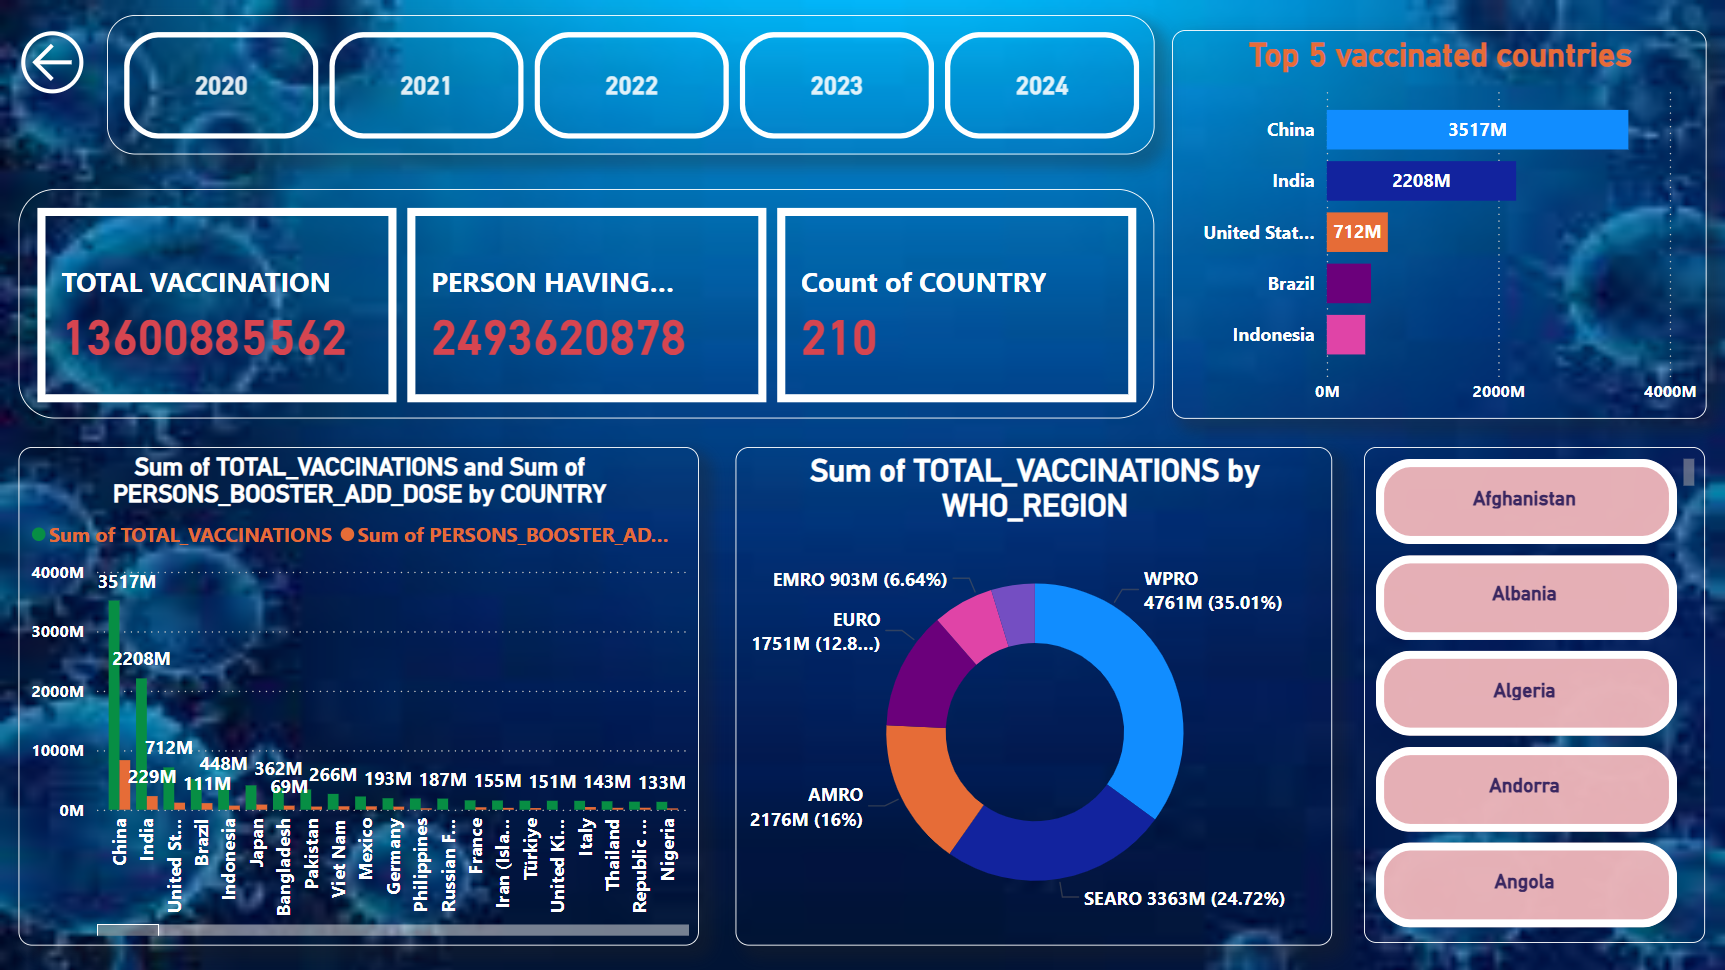

The dashboard page shown, as its layout file describes it:
{"tool":"powerbi","page":{"name":"Page 3","canvas":[1280,720],"ordinal":2},"visuals":[{"type":"clusteredColumnChart","fields":{"Category":["vaccination-data (1).COUNTRY"],"Y":["Sum(vaccination-data (1).TOTAL_VACCINATIONS)","Sum(vaccination-data (1).PERSONS_BOOSTER_ADD_DOSE)"]},"box":[14.3,330.8,504.2,369],"z":0},{"type":"donutChart","fields":{"Category":["vaccination-data (1).WHO_REGION"],"Y":["Sum(vaccination-data (1).TOTAL_VACCINATIONS)"]},"box":[545.6,330.8,442.2,369],"z":1000},{"type":"cardVisual","fields":{"Data":["Sum(vaccination-data (1).TOTAL_VACCINATIONS)","Sum(vaccination-data (1).PERSONS_BOOSTER_ADD_DOSE)","CountNonNull(vaccination-data (1).COUNTRY)"]},"box":[14.3,140,841.4,170.2],"z":2000},{"type":"advancedSlicerVisual","fields":{"Values":["WHO-COVID-19-global-data (3).Date_reported.Variation.Date Hierarchy.Year"]},"box":[79.5,11.1,776.2,103.4],"z":3000},{"type":"barChart","title":"Top 5 vaccinated countries","fields":{"Category":["vaccination-data (1).COUNTRY"],"Y":["Sum(vaccination-data (1).TOTAL_VACCINATIONS)"]},"box":[868.5,22.3,396.1,287.9],"z":4000},{"type":"advancedSlicerVisual","fields":{"Values":["vaccination-data (1).COUNTRY"]},"box":[1011.6,330.8,252.9,367.4],"z":5000},{"type":"actionButton","box":[0,0,79.5,92.3],"z":6000}]}

Visuals, with their boxes in screenshot pixels (x1, y1, x2, y2), scaled from the page's 1280x720 canvas onto the 1725x970 screenshot:
clusteredColumnChart - vaccination-data (1).COUNTRY x Sum(vaccination-data (1).TOTAL_VACCINATIONS): pyautogui.locateOnScreen(19, 446, 699, 943)
donutChart - vaccination-data (1).WHO_REGION x Sum(vaccination-data (1).TOTAL_VACCINATIONS): pyautogui.locateOnScreen(735, 446, 1331, 943)
cardVisual - Sum(vaccination-data (1).TOTAL_VACCINATIONS) x Sum(vaccination-data (1).PERSONS_BOOSTER_ADD_DOSE): pyautogui.locateOnScreen(19, 189, 1153, 418)
advancedSlicerVisual - WHO-COVID-19-global-data (3).Date_reported.Variation.Date Hierarchy.Year: pyautogui.locateOnScreen(107, 15, 1153, 154)
"Top 5 vaccinated countries" barChart: pyautogui.locateOnScreen(1170, 30, 1704, 418)
advancedSlicerVisual - vaccination-data (1).COUNTRY: pyautogui.locateOnScreen(1363, 446, 1704, 941)
actionButton: pyautogui.locateOnScreen(0, 0, 107, 124)
